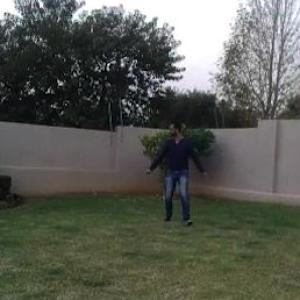land: (138, 102, 226, 242)
